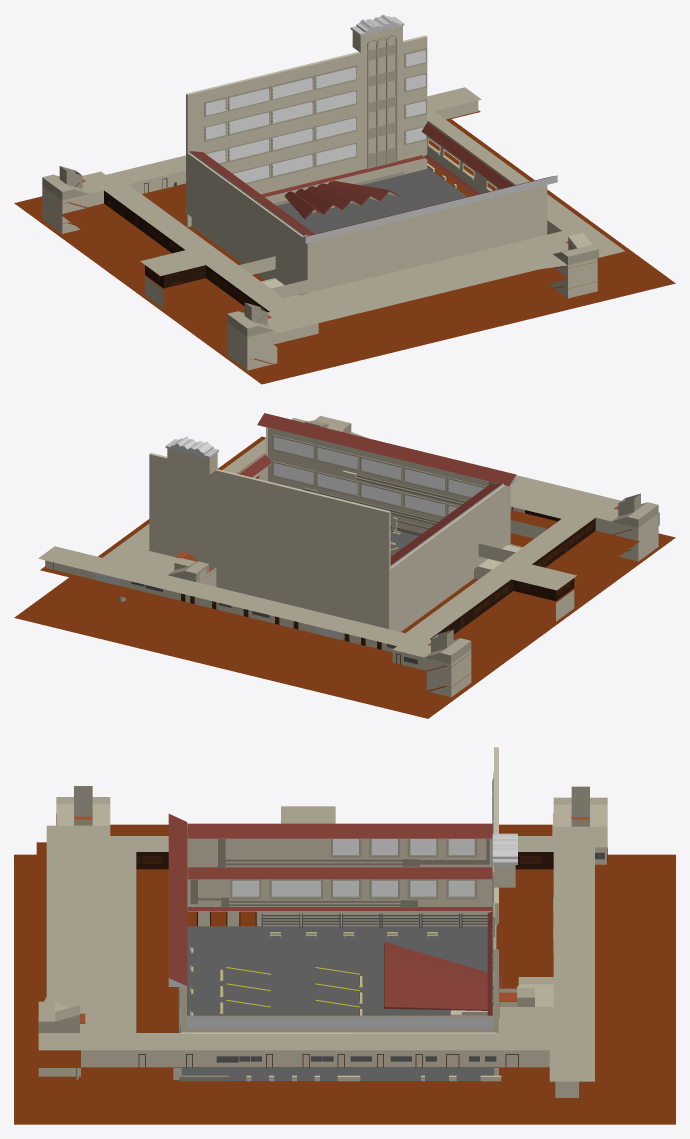
Rendered from 2nd flr.fbx.
The picture shows the model from 3 angles, top to bottom: view 1: azimuth 30°, elevation 25°; view 2: azimuth 150°, elevation 25°; view 3: azimuth 270°, elevation 25°; orthographic projection. The views are drawn at different scales.
Visible parts, largest first — view 1: 2nd flr; view 2: 2nd flr; view 3: 2nd flr.
Part boxes in pixels (left/top/right/bottom): 2nd flr: left=14, top=14, right=675, bottom=384; 2nd flr: left=14, top=413, right=675, bottom=718; 2nd flr: left=14, top=747, right=675, bottom=1124.
Size of the model in its own units: 16797 by 5983 by 17083.
